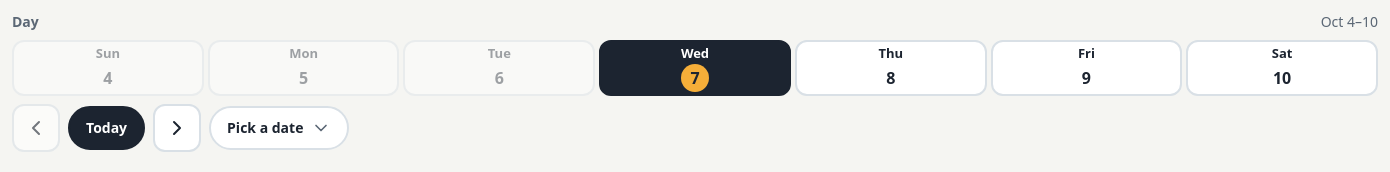
Test: a day, picked by touch (ADR 0029) › can't go back past the earliest day
Expected: the button named "Previous week" is disabled, [12,104,60,152]
Click the button named "Next week": [177, 128] box [153,104,201,152]
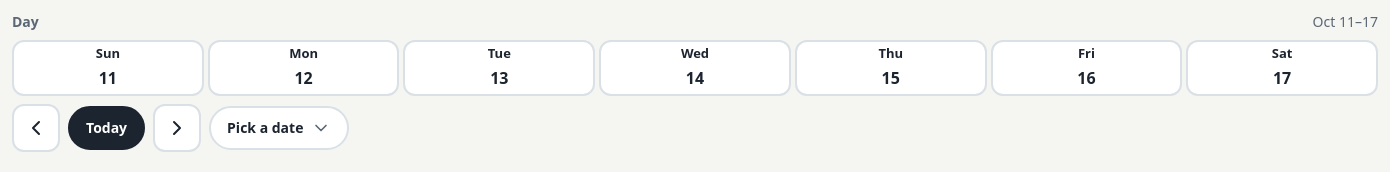
Result: the button named "Previous week" is enabled at [12,104,60,152]
